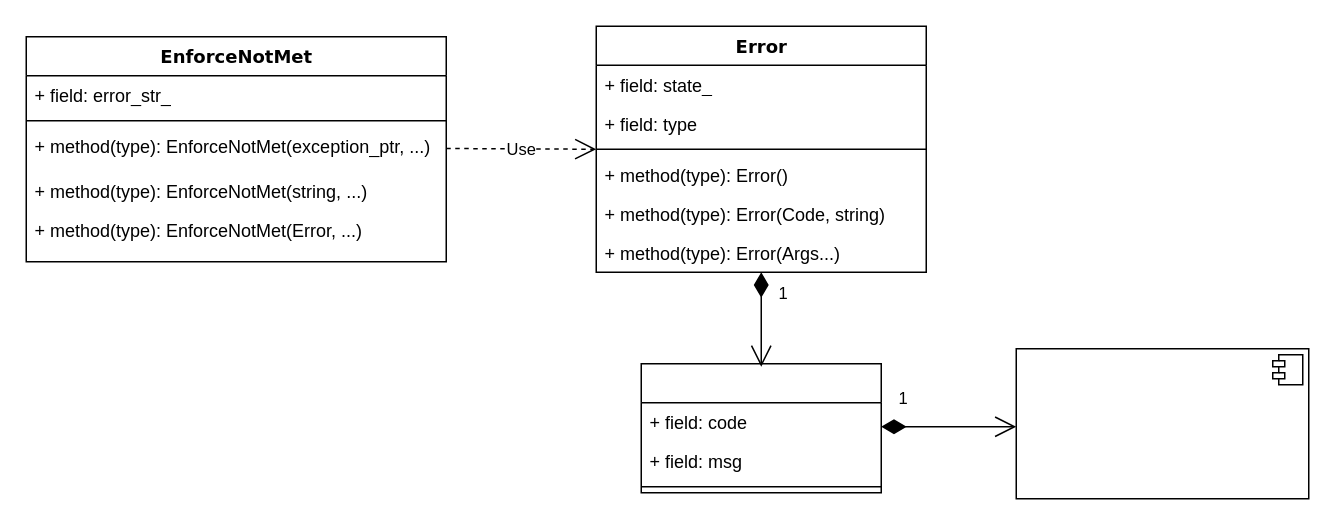
Some shapes in this 1335 by 525 pixel diagram are drawn without their labels. The shapes that lost their labels are listed below. From the top down, each one's box as (x1, y1, x2, y2) in pixels, then its label:
(640, 362, 881, 493): State
(1015, 347, 1309, 499): ErrorCodes + Code1: LEGACY + Code2: UNKNOWN + Code3: ARGUMENT_INVALID ...
